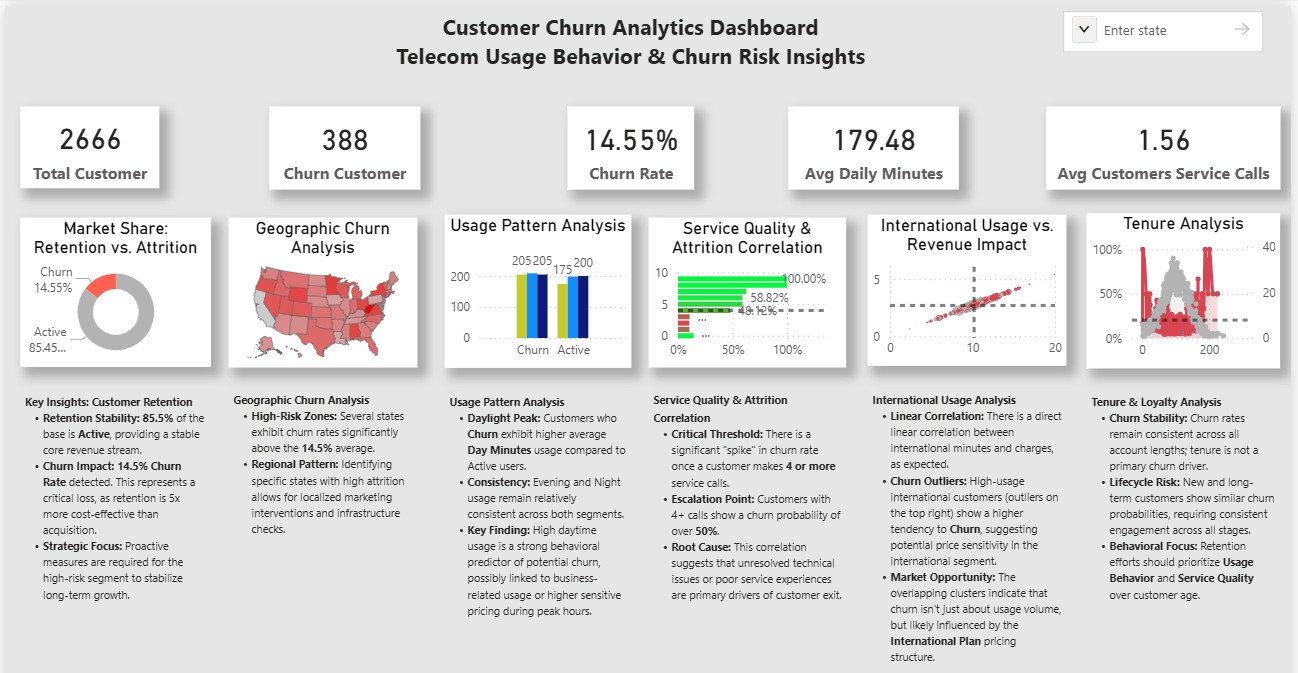

Layout of this report page (visuals, bound fields, positions):
{"tool":"powerbi","page":{"name":"Page 1","canvas":[1280,720],"ordinal":0},"visuals":[{"type":"card","fields":{"Values":["churn_cleaned_final.Total Customer"]},"box":[14.4,100.7,139,81.5],"z":0},{"type":"card","fields":{"Values":["churn_cleaned_final.Churn Customer"]},"box":[263.2,100,150.9,82.5],"z":1000},{"type":"card","fields":{"Values":["churn_cleaned_final.Churn Rate"]},"box":[559.6,100,126.3,82.5],"z":2000},{"type":"card","fields":{"Values":["churn_cleaned_final.Avg Dailiy Minutes"]},"box":[778.9,100,170.2,82.5],"z":3000},{"type":"card","fields":{"Values":["churn_cleaned_final.Avg Customers Service Calls"]},"box":[1035.1,100,233.3,82.5],"z":4000},{"type":"textbox","box":[357.9,0,528.8,78.3],"z":5000},{"type":"donutChart","title":"Market Share: Retention vs. Attrition","fields":{"Y":["churn_cleaned_final.Total Customer"],"Category":["churn_cleaned_final.Customer Status"]},"box":[14.4,210.9,190.1,148.6],"z":6000},{"type":"textbox","box":[14.4,377.1,190.1,230.1],"z":7000},{"type":"shapeMap","title":"Geographic Churn Analysis","fields":{"Value":["churn_cleaned_final.Total Customer"],"Category":["churn_cleaned_final.state"]},"box":[222.8,210.5,187.7,149.1],"z":8000},{"type":"textbox","box":[222.9,375.7,187.1,177.1],"z":9000},{"type":"clusteredColumnChart","title":"Usage Pattern Analysis","fields":{"Category":["churn_cleaned_final.Customer Status"],"Y":["Avg(churn_cleaned_final.total_day_minutes)","Avg(churn_cleaned_final.total_eve_minutes)","Avg(churn_cleaned_final.total_night_minutes)"]},"box":[436.8,207,186,152.6],"z":10000},{"type":"textbox","box":[437.1,377.1,185.7,272.9],"z":11000},{"type":"clusteredBarChart","title":"Service Quality & Attrition Correlation","fields":{"Category":["churn_cleaned_final.customer_service_calls"],"Y":["churn_cleaned_final.Churn Rate"]},"box":[640.4,210.5,196.5,149.1],"z":12000},{"type":"textbox","box":[640,376,198,274],"z":13000},{"type":"scatterChart","title":"International Usage vs. Revenue Impact","fields":{"Category":["churn_cleaned_final.account_length"],"X":["Avg(churn_cleaned_final.total_intl_minutes)"],"Y":["Avg(churn_cleaned_final.total_intl_charge)"],"Series":["churn_cleaned_final.Customer Status"],"Size":["Sum(churn_cleaned_final.customer_service_calls)"]},"box":[857.9,207,198.2,150.9],"z":14000},{"type":"textbox","box":[858.6,375.7,198.6,315.7],"z":15000},{"type":"lineChart","title":"Tenure Analysis","fields":{"Category":["churn_cleaned_final.account_length"],"Y":["churn_cleaned_final.Churn Rate"],"Y2":["churn_cleaned_final.Total Customer"]},"box":[1075.4,205.3,193,154.4],"z":16000},{"type":"textbox","box":[1075.4,377.2,193,342.1],"z":17000},{"type":"textSlicer","fields":{"Values":["churn_cleaned_final.state"]},"box":[1047.4,0,208.8,50.9],"z":18000}]}

Visuals, with their boxes on the page's 1280x720 design canvas (x1, y1, x2, y2). These are canvas units, not pixel positions in the 1298x673 screenshot, which may show the page scaled, cropped or inside an application window:
card - churn_cleaned_final.Total Customer: box(14, 101, 153, 182)
card - churn_cleaned_final.Churn Customer: box(263, 100, 414, 182)
card - churn_cleaned_final.Churn Rate: box(560, 100, 686, 182)
card - churn_cleaned_final.Avg Dailiy Minutes: box(779, 100, 949, 182)
card - churn_cleaned_final.Avg Customers Service Calls: box(1035, 100, 1268, 182)
textbox: box(358, 0, 887, 78)
"Market Share: Retention vs. Attrition" donutChart: box(14, 211, 204, 360)
textbox: box(14, 377, 204, 607)
"Geographic Churn Analysis" shapeMap: box(223, 210, 410, 360)
textbox: box(223, 376, 410, 553)
"Usage Pattern Analysis" clusteredColumnChart: box(437, 207, 623, 360)
textbox: box(437, 377, 623, 650)
"Service Quality & Attrition Correlation" clusteredBarChart: box(640, 210, 837, 360)
textbox: box(640, 376, 838, 650)
"International Usage vs. Revenue Impact" scatterChart: box(858, 207, 1056, 358)
textbox: box(859, 376, 1057, 691)
"Tenure Analysis" lineChart: box(1075, 205, 1268, 360)
textbox: box(1075, 377, 1268, 719)
textSlicer - churn_cleaned_final.state: box(1047, 0, 1256, 51)
